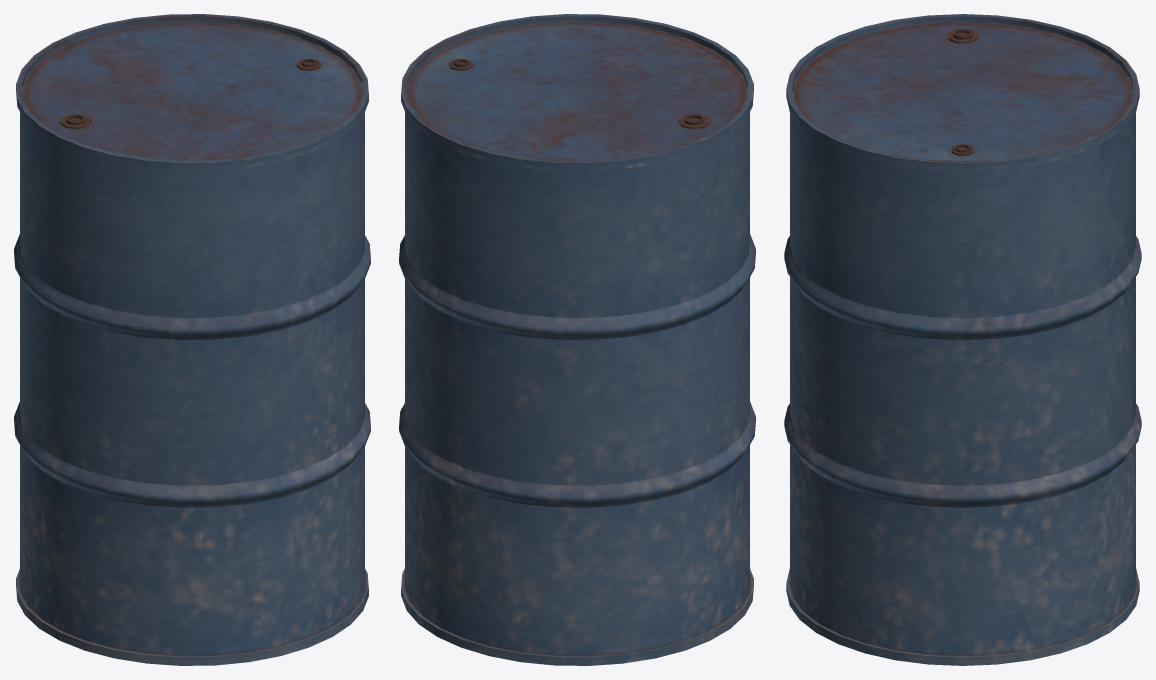
The model's file is SM_Barrel_2.fbx.
3 views of the same model, side by side, from view 1: azimuth 30°, elevation 25°; view 2: azimuth 150°, elevation 25°; view 3: azimuth 270°, elevation 25° (orthographic).
Parts seen in each view (by area): view 1: SM_Barrel_2_LOD0; view 2: SM_Barrel_2_LOD0; view 3: SM_Barrel_2_LOD0.
Part boxes in pixels (left/top/right/bottom): SM_Barrel_2_LOD0: left=14, top=14, right=370, bottom=665; SM_Barrel_2_LOD0: left=399, top=14, right=755, bottom=665; SM_Barrel_2_LOD0: left=784, top=14, right=1141, bottom=665.
Bounding box in the file's own units: 69.6 × 69.6 × 108.
1 material, 1 textured.
